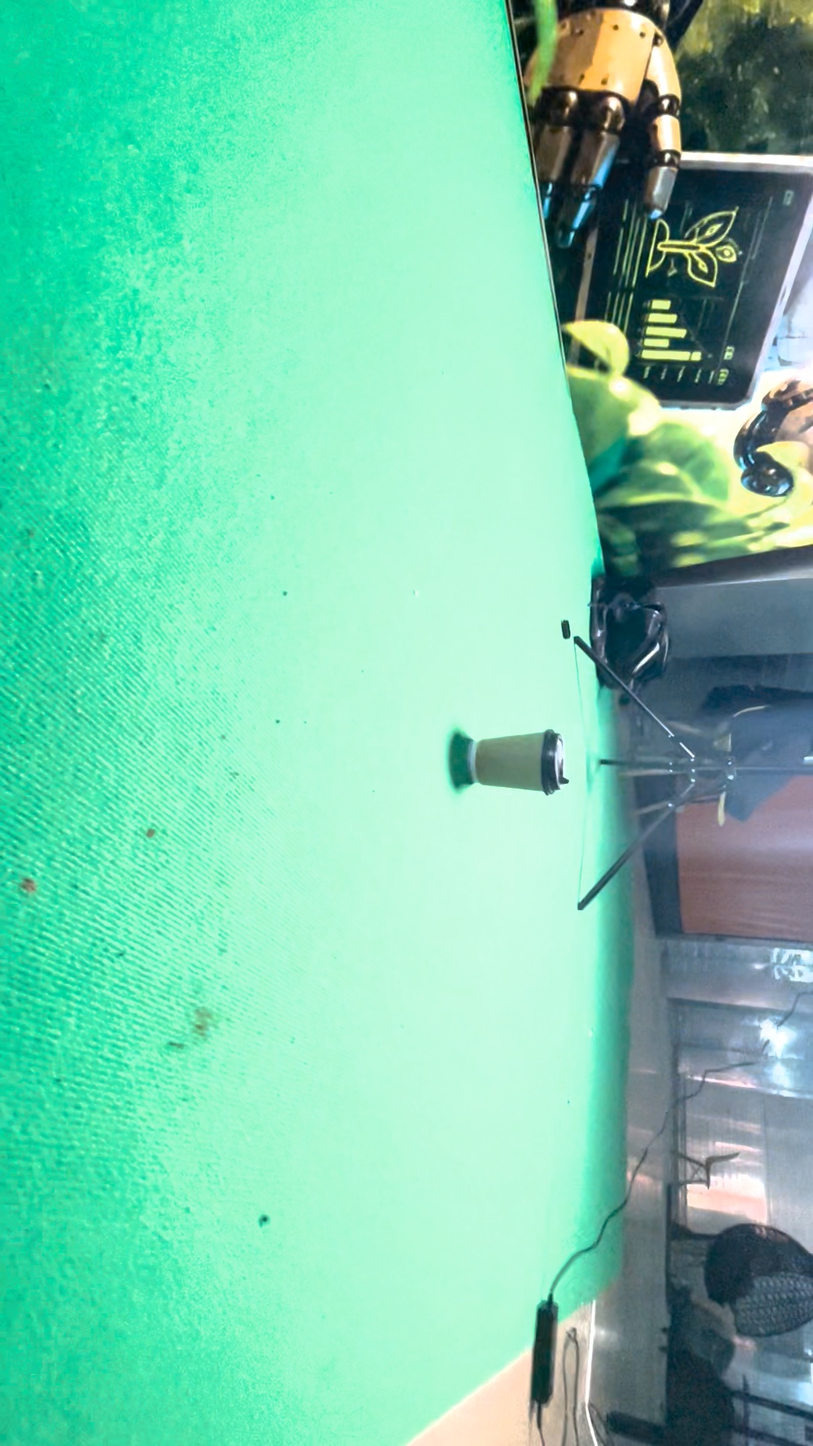cup: (432, 430, 518, 847)
